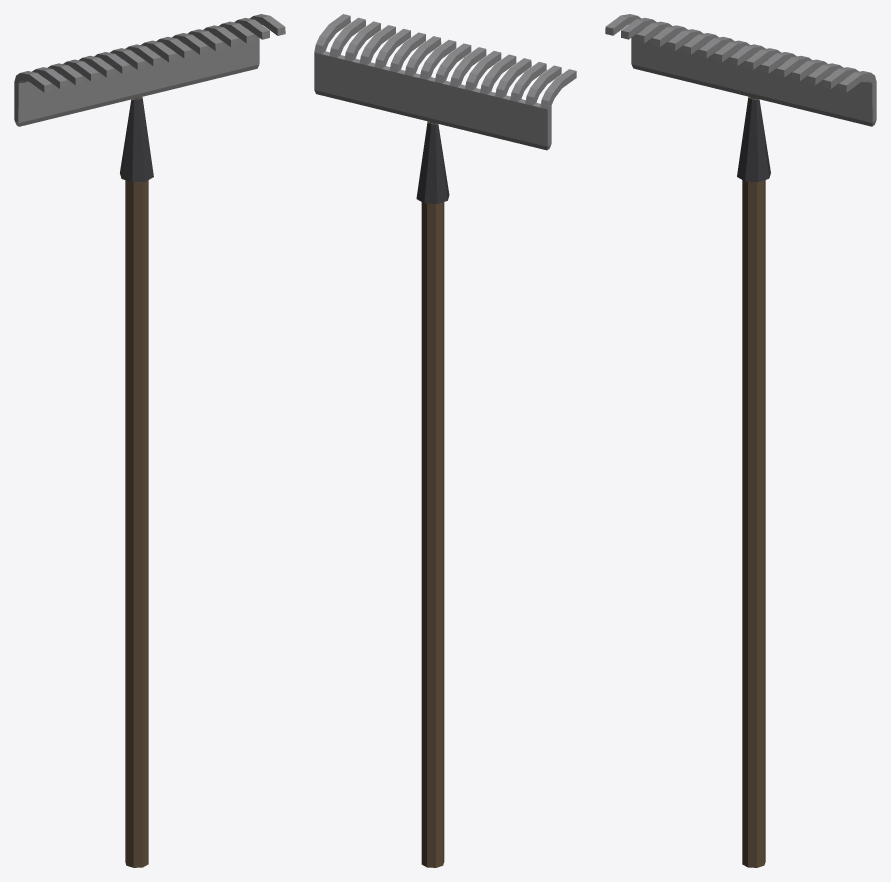
The model's file is Hark.fbx.
The picture shows the model from 3 angles, left to right: view 1: azimuth 30°, elevation 25°; view 2: azimuth 150°, elevation 25°; view 3: azimuth 330°, elevation 25°; orthographic projection. The views are drawn at different scales.
Parts seen in each view (by area): view 1: Cylinder; view 2: Cylinder; view 3: Cylinder.
Part boxes in pixels (left/top/right/bottom): Cylinder: left=14, top=14, right=285, bottom=867; Cylinder: left=314, top=14, right=576, bottom=867; Cylinder: left=605, top=14, right=876, bottom=867.
Size of the model in its own units: 63.98 by 210 by 16.96.
